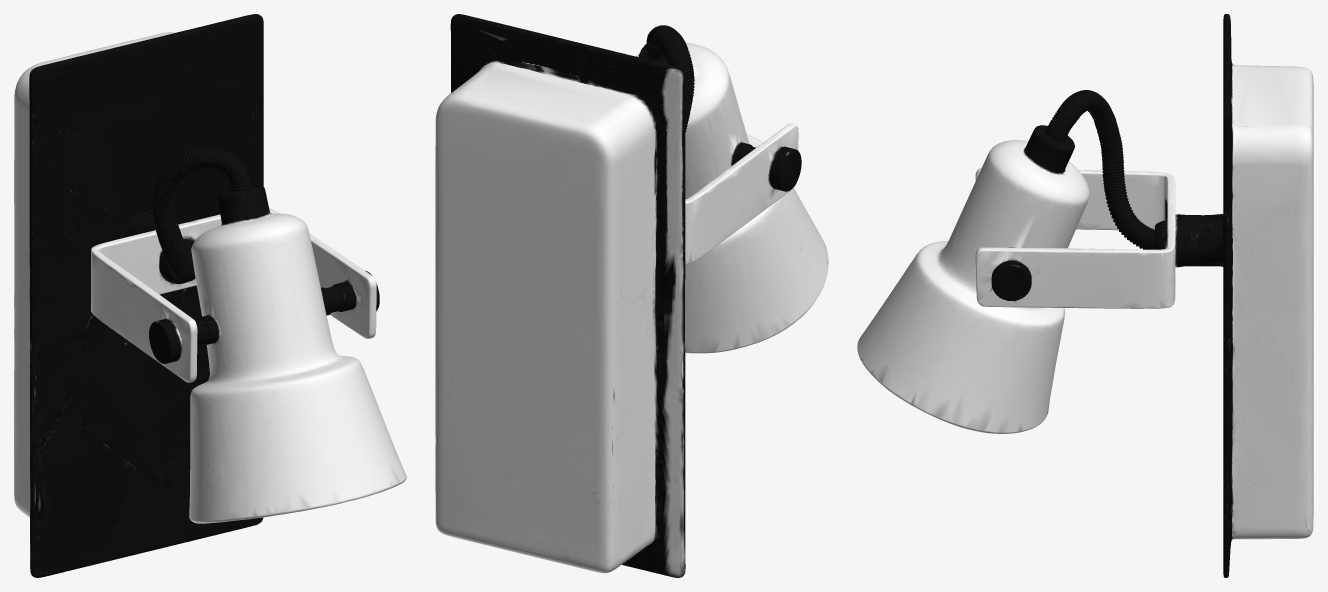
The model's file is wandleuchte-01.glb.
3 renders of one model, left to right at view 1: azimuth 30°, elevation 25°; view 2: azimuth 150°, elevation 25°; view 3: azimuth 270°, elevation 25°, orthographic. The views are drawn at different scales.
Bounding box in the file's own units: 0.9078 × 1.9 × 1.69.
Materials: 1 (1 with a texture image).
